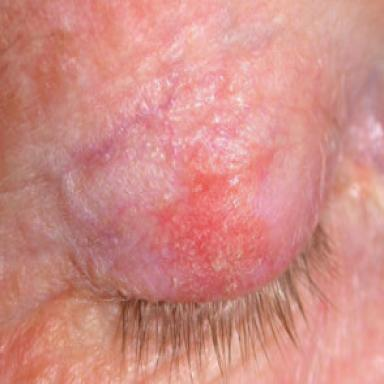eczema: (147, 152, 282, 300)
